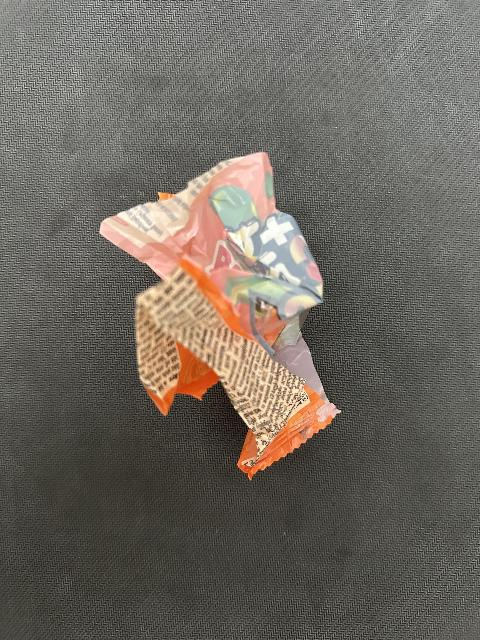Plastik: (105, 151, 340, 487)
